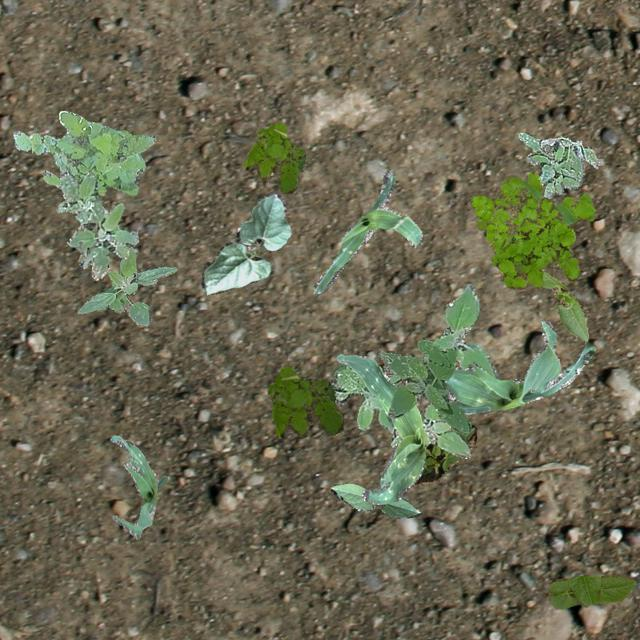crop: (442, 320, 594, 412), (313, 170, 422, 292), (336, 352, 424, 503), (200, 190, 290, 294), (110, 434, 167, 538), (410, 424, 476, 484), (540, 270, 588, 340), (329, 482, 418, 518), (548, 574, 634, 608)
weed: (331, 284, 498, 458), (469, 172, 594, 270), (12, 110, 154, 194), (56, 170, 138, 280), (378, 336, 470, 432), (492, 196, 580, 288), (76, 246, 176, 324), (516, 132, 598, 198), (266, 366, 342, 436), (242, 121, 304, 192)
